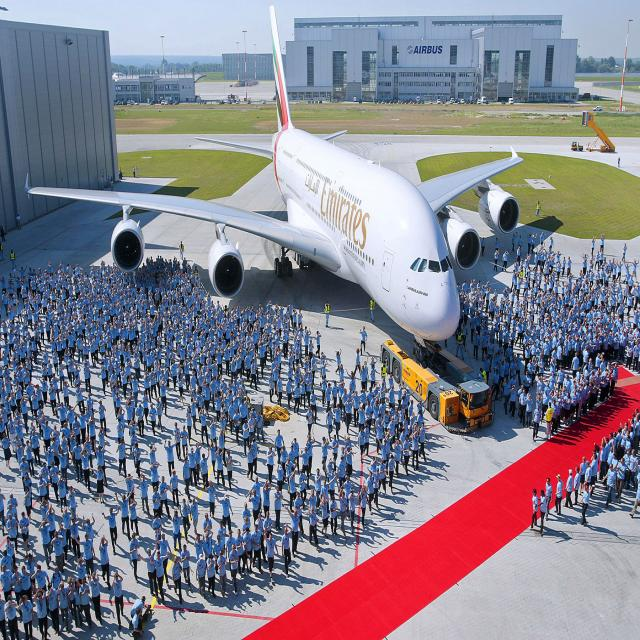A380: (23, 13, 525, 334)
